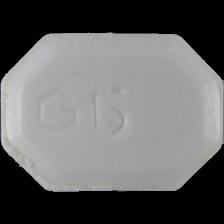0179-1973: (0, 0, 224, 224)
